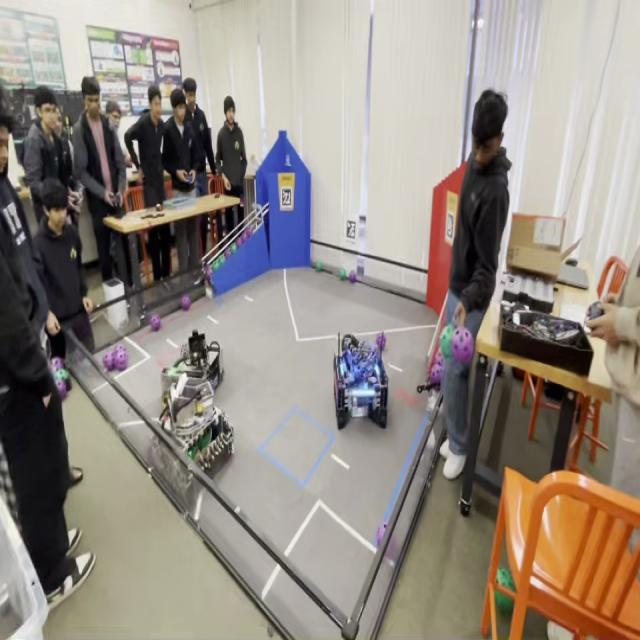artifact_green: (440, 324, 455, 357), (496, 567, 515, 592), (54, 369, 71, 392), (430, 363, 443, 385), (198, 430, 212, 450), (116, 349, 128, 372), (50, 357, 64, 373), (150, 315, 161, 331), (57, 369, 69, 381), (208, 265, 216, 283), (210, 266, 217, 286), (188, 446, 198, 459), (115, 343, 126, 354), (54, 369, 63, 380), (218, 254, 225, 267), (236, 235, 243, 248), (168, 367, 179, 375), (205, 265, 211, 279), (340, 268, 347, 280), (242, 230, 249, 242), (224, 247, 231, 259), (212, 260, 218, 273), (211, 259, 217, 272), (230, 242, 237, 253), (246, 226, 253, 237), (219, 255, 226, 265), (316, 261, 322, 272), (214, 256, 219, 267), (210, 274, 213, 286)
artifact_purple: (451, 328, 474, 363), (430, 363, 443, 385), (376, 522, 387, 548), (115, 351, 128, 370), (103, 350, 115, 370), (50, 357, 64, 373), (56, 380, 67, 399), (376, 332, 386, 351), (150, 315, 161, 331), (434, 350, 444, 367), (182, 296, 191, 311), (114, 344, 126, 353), (205, 266, 212, 279), (236, 235, 243, 248), (349, 271, 356, 283), (230, 242, 237, 253), (224, 248, 231, 259), (241, 230, 248, 241), (247, 226, 253, 237), (156, 203, 163, 212), (210, 273, 213, 285)
